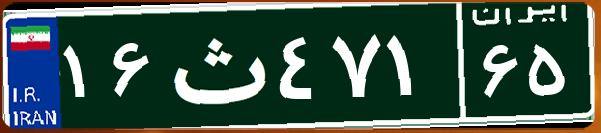1: (385, 28, 445, 110), (57, 26, 110, 107)
4: (273, 28, 330, 110)
5: (525, 38, 570, 115)
6: (475, 38, 525, 113), (110, 28, 158, 105)
7: (330, 28, 385, 110)
ث: (158, 15, 273, 115)
